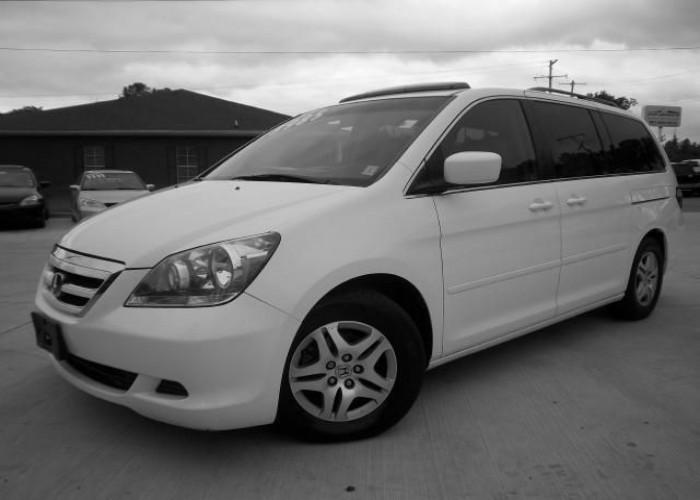car: (35, 84, 684, 447)
